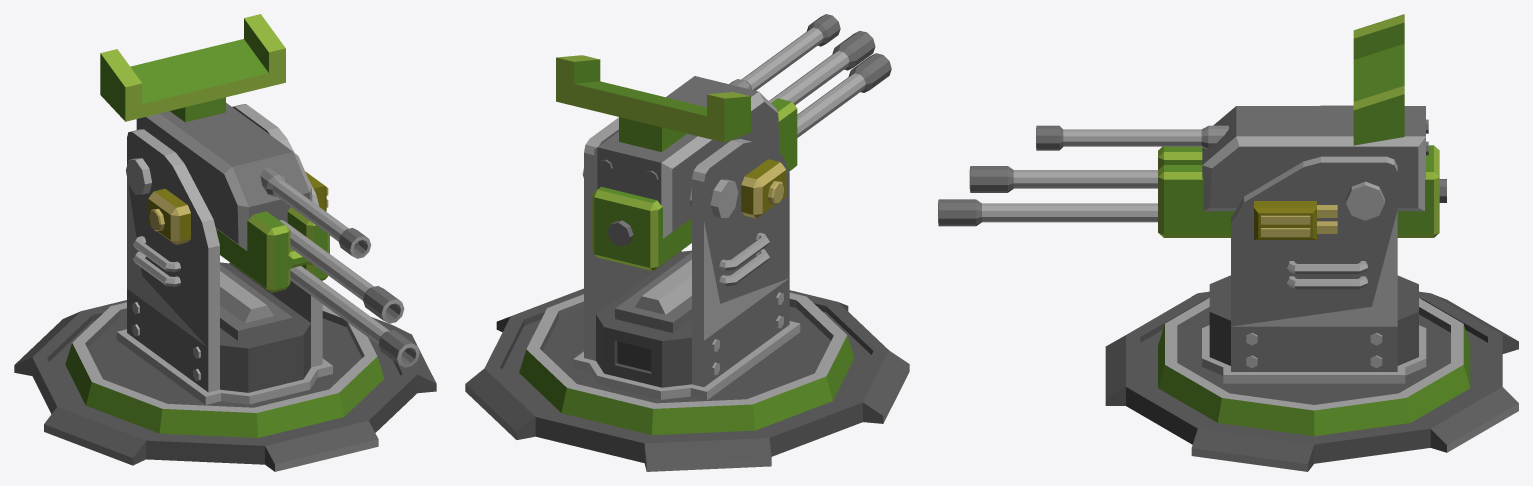
File: tower_machinegun_green_3.fbx
3 renders of one model, left to right at view 1: azimuth 30°, elevation 25°; view 2: azimuth 150°, elevation 25°; view 3: azimuth 270°, elevation 25°, orthographic. The views are drawn at different scales.
Visible parts, largest first — view 1: top_machinegun_green_3, tower_machinegun_green_3; view 2: top_machinegun_green_3, tower_machinegun_green_3; view 3: top_machinegun_green_3, tower_machinegun_green_3.
Part boxes in pixels (x1,y1,x2,y2): top_machinegun_green_3: (65, 14, 419, 437); tower_machinegun_green_3: (14, 300, 436, 471); top_machinegun_green_3: (519, 14, 891, 435); tower_machinegun_green_3: (465, 288, 909, 471); top_machinegun_green_3: (938, 14, 1470, 436); tower_machinegun_green_3: (1105, 291, 1518, 471).
Bounding box in the file's own units: 172 × 142 × 229.
